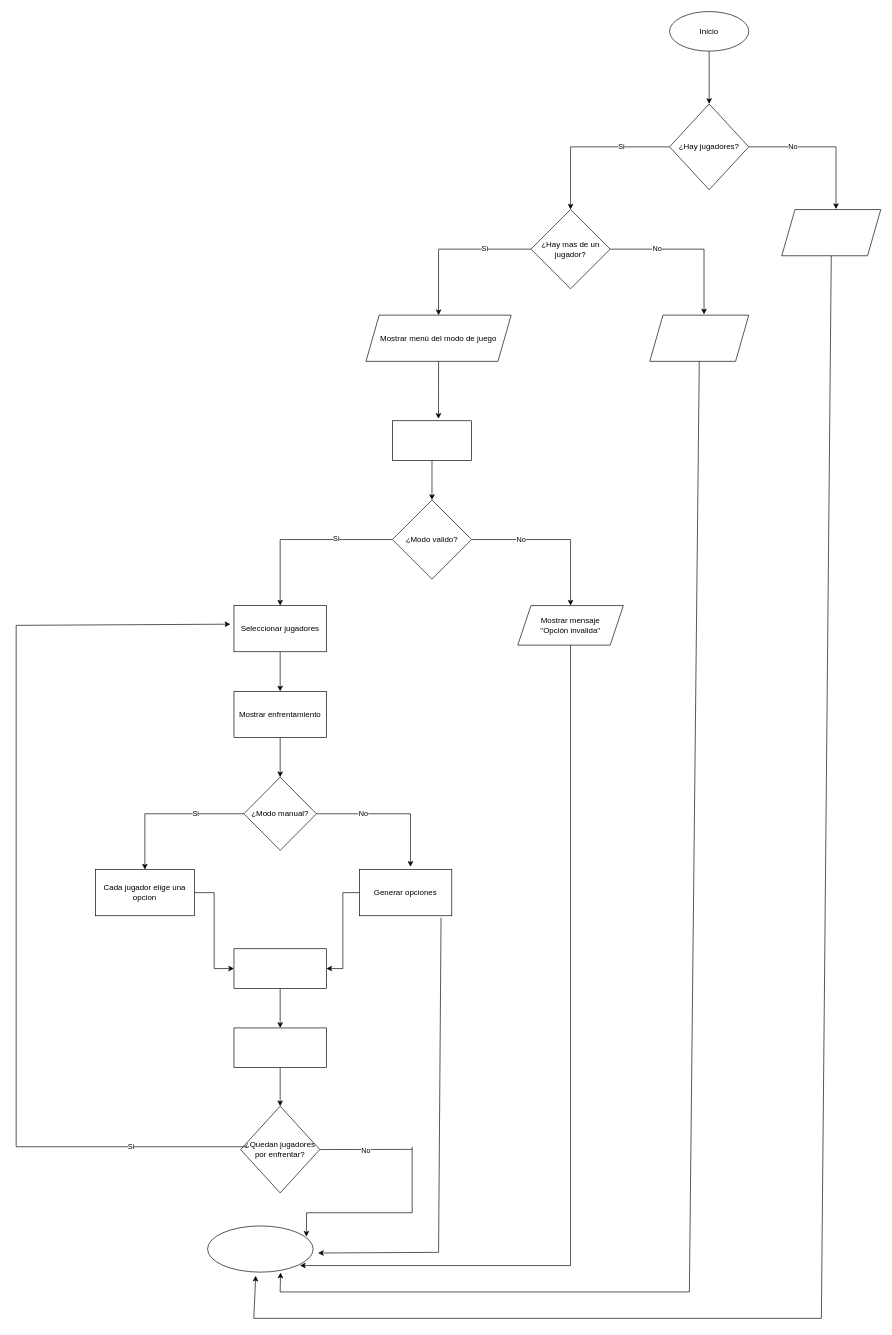
Some shapes in this 892 by 1335 pixel diagram are drawn without their labels. The shapes that lost their labels are listed below. From the top down, each one's box as (x1, y1, x2, y2) in pixels, then its label:
(781, 209, 881, 256): Mostrar mensaje "No hay jugadores'
(649, 314, 749, 361): Mostrar mensaje "Se necesitan mas jugadores"
(392, 420, 472, 460): Leer modo
(233, 948, 326, 988): Comparar jugadas
(233, 1027, 326, 1068): Asignar puntos
(207, 1225, 313, 1272): Fin
